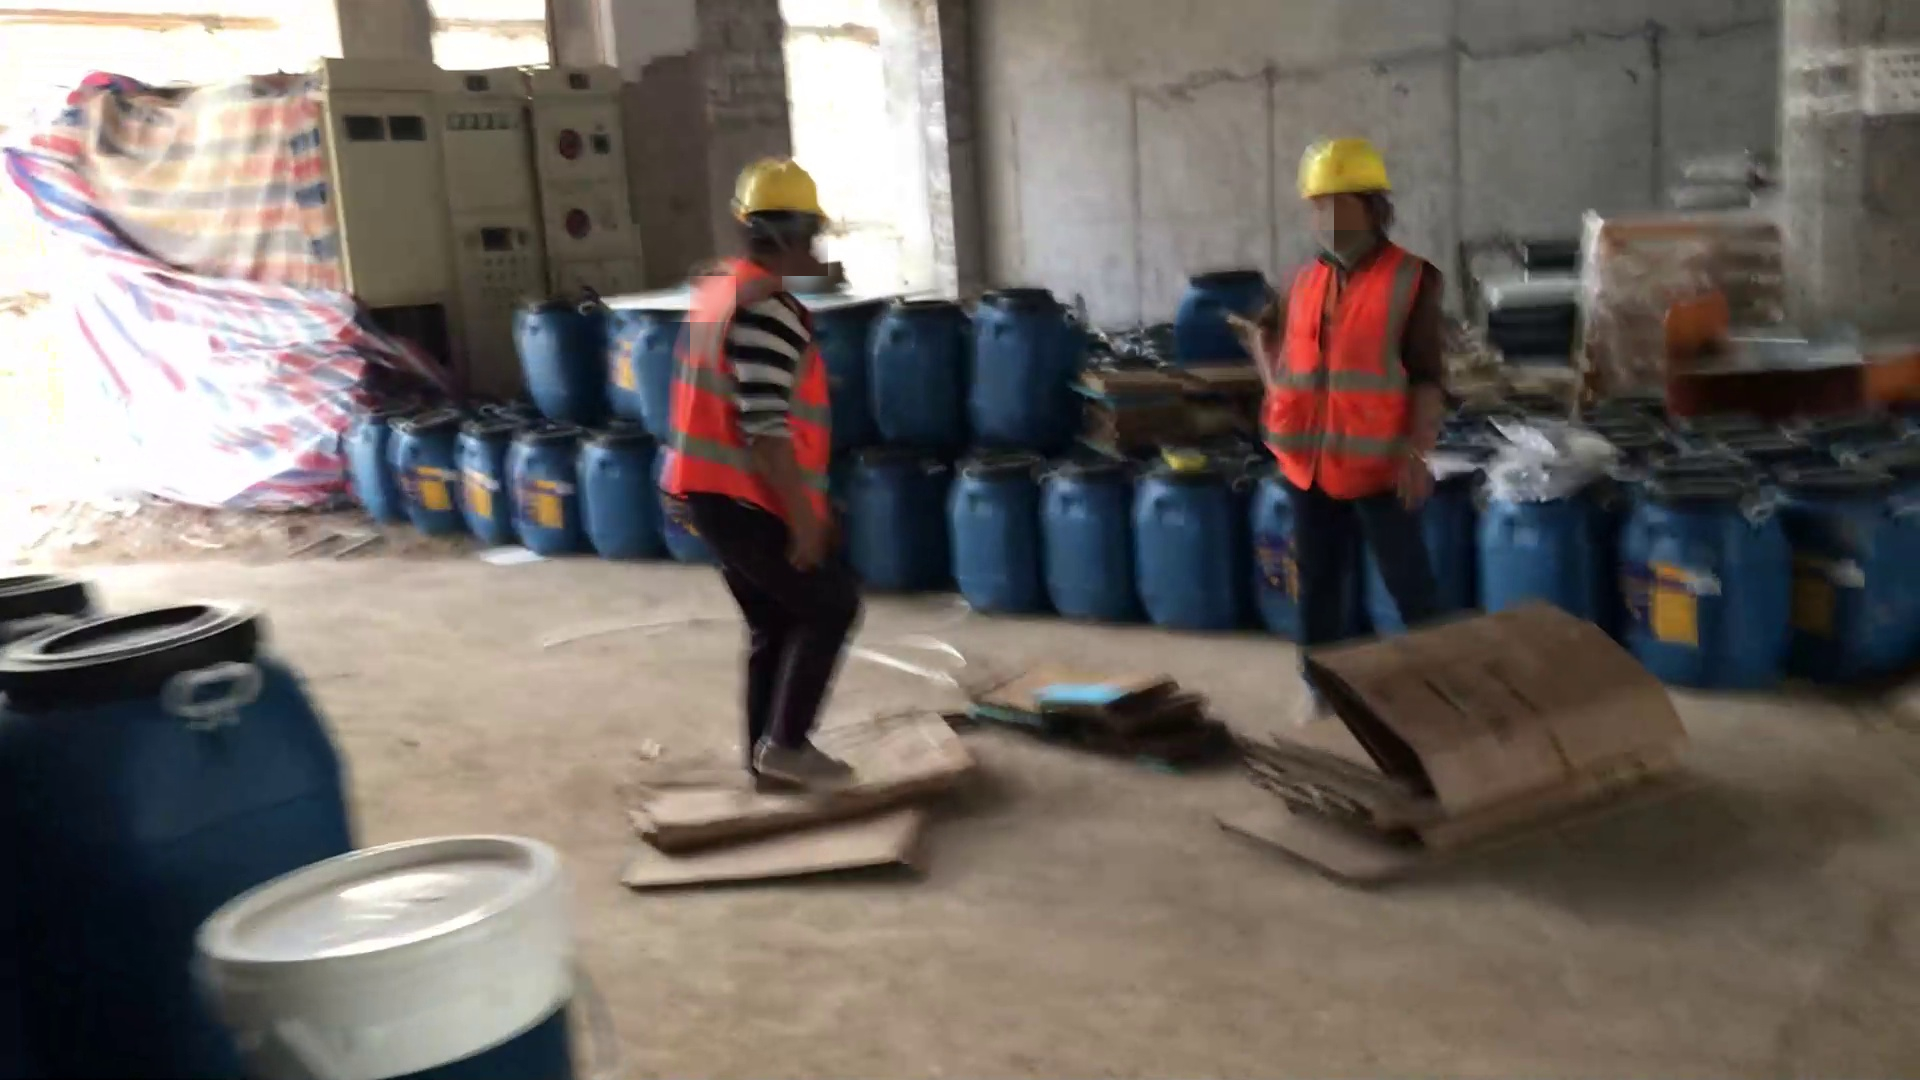helmet: (728, 154, 833, 245), (1287, 138, 1392, 203)
person: (653, 153, 867, 792), (1251, 134, 1449, 720)
vest: (658, 259, 834, 538), (1258, 238, 1426, 500)
